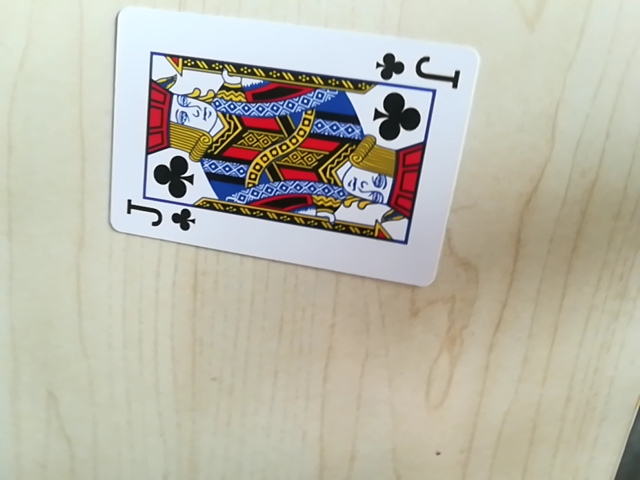mh j: (375, 52, 463, 88), (119, 202, 197, 234)
